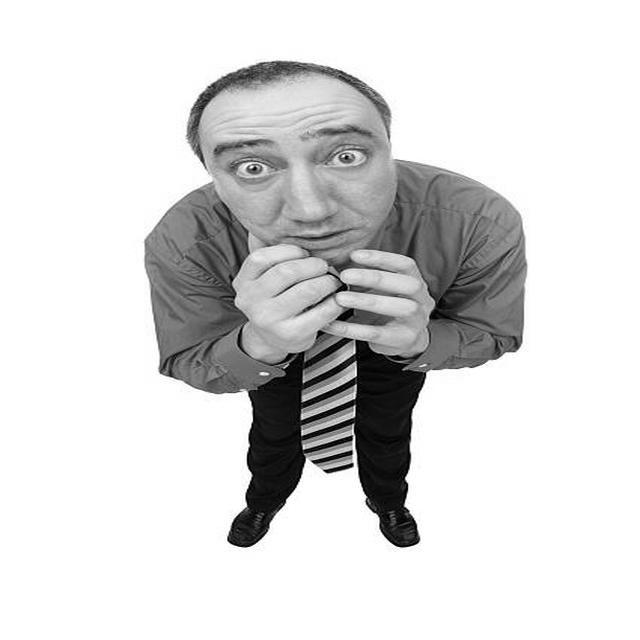Fear: (212, 94, 384, 256)
